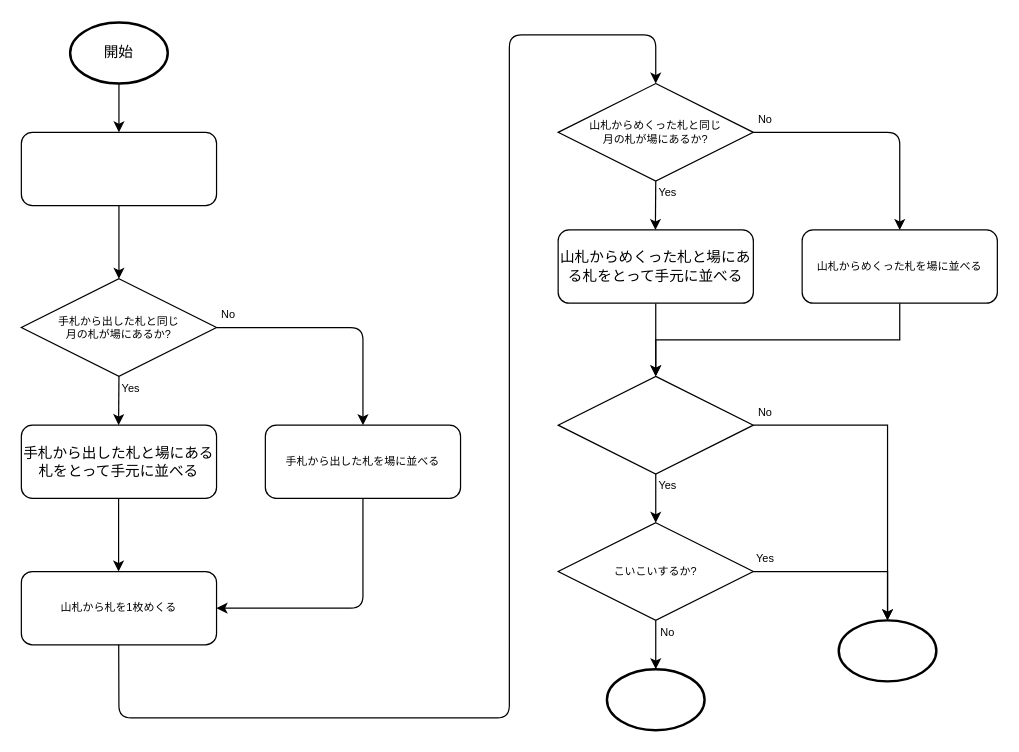
Image size: 1019x752. Some labels were removed from this diagram. The shapes that lost their labels are listed below. From the top down, each one's centre as x and y in pixels, then its label:
At (x=118, y=168): "手札から1枚場に出す".
At (x=655, y=424): "手元に並べた札で役 ができているか?".
At (x=887, y=650): "終了".
At (x=655, y=699): "ゲーム 終了".
